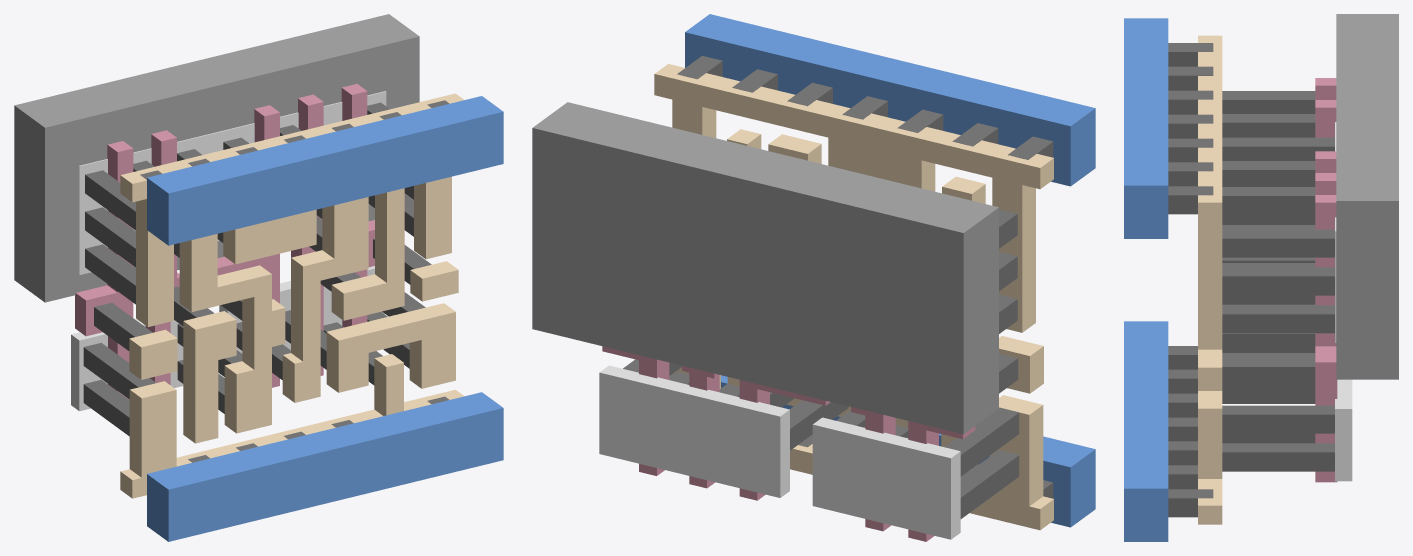
File: sky130_fd_sc_hd__o2bb2ai_1.gds.gltf
3 views of the same model, side by side, from view 1: azimuth 30°, elevation 25°; view 2: azimuth 150°, elevation 25°; view 3: azimuth 270°, elevation 25° (orthographic). The views are drawn at different scales.
Parts seen in each view (by area): view 1: sky130_fd_sc_hd__o2bb2ai_1_li1, sky130_fd_sc_hd__o2bb2ai_1_met1, sky130_fd_sc_hd__o2bb2ai_1_nwell, sky130_fd_sc_hd__o2bb2ai_1_licon, sky130_fd_sc_hd__o2bb2ai_1_poly, sky130_fd_sc_hd__o2bb2ai_1_diff, sky130_fd_sc_hd__o2bb2ai_1_mcon; view 2: sky130_fd_sc_hd__o2bb2ai_1_nwell, sky130_fd_sc_hd__o2bb2ai_1_li1, sky130_fd_sc_hd__o2bb2ai_1_diff, sky130_fd_sc_hd__o2bb2ai_1_met1, sky130_fd_sc_hd__o2bb2ai_1_licon, sky130_fd_sc_hd__o2bb2ai_1_mcon, sky130_fd_sc_hd__o2bb2ai_1_poly; view 3: sky130_fd_sc_hd__o2bb2ai_1_licon, sky130_fd_sc_hd__o2bb2ai_1_nwell, sky130_fd_sc_hd__o2bb2ai_1_met1, sky130_fd_sc_hd__o2bb2ai_1_mcon, sky130_fd_sc_hd__o2bb2ai_1_li1, sky130_fd_sc_hd__o2bb2ai_1_poly, sky130_fd_sc_hd__o2bb2ai_1_diff.
Part boxes in pixels (x1,y1,x2,y2): sky130_fd_sc_hd__o2bb2ai_1_li1: (120, 93, 463, 498); sky130_fd_sc_hd__o2bb2ai_1_met1: (147, 96, 503, 541); sky130_fd_sc_hd__o2bb2ai_1_nwell: (14, 14, 419, 302); sky130_fd_sc_hd__o2bb2ai_1_licon: (83, 102, 431, 436); sky130_fd_sc_hd__o2bb2ai_1_poly: (75, 84, 374, 399); sky130_fd_sc_hd__o2bb2ai_1_diff: (71, 91, 386, 411); sky130_fd_sc_hd__o2bb2ai_1_mcon: (140, 100, 449, 462); sky130_fd_sc_hd__o2bb2ai_1_nwell: (532, 102, 998, 434); sky130_fd_sc_hd__o2bb2ai_1_li1: (654, 64, 1053, 530); sky130_fd_sc_hd__o2bb2ai_1_diff: (599, 365, 960, 539); sky130_fd_sc_hd__o2bb2ai_1_met1: (685, 14, 1095, 527); sky130_fd_sc_hd__o2bb2ai_1_licon: (623, 209, 1019, 518); sky130_fd_sc_hd__o2bb2ai_1_mcon: (677, 55, 1053, 498); sky130_fd_sc_hd__o2bb2ai_1_poly: (602, 346, 975, 541); sky130_fd_sc_hd__o2bb2ai_1_licon: (1222, 91, 1334, 471); sky130_fd_sc_hd__o2bb2ai_1_nwell: (1336, 14, 1398, 379); sky130_fd_sc_hd__o2bb2ai_1_met1: (1124, 18, 1168, 541); sky130_fd_sc_hd__o2bb2ai_1_mcon: (1168, 43, 1213, 517); sky130_fd_sc_hd__o2bb2ai_1_li1: (1198, 35, 1222, 524); sky130_fd_sc_hd__o2bb2ai_1_poly: (1315, 78, 1337, 482); sky130_fd_sc_hd__o2bb2ai_1_diff: (1335, 122, 1352, 481).
Size of the model in its own units: 3.6 by 3.2 by 2.24.
